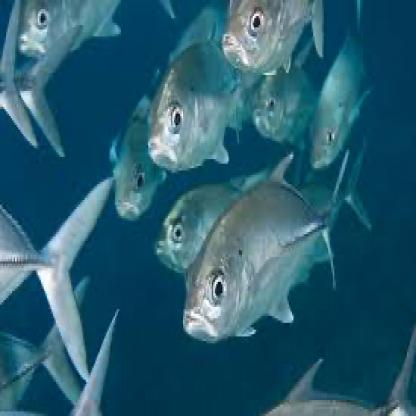Carangidae -Jacks-: (175, 140, 349, 347), (143, 28, 242, 174)
